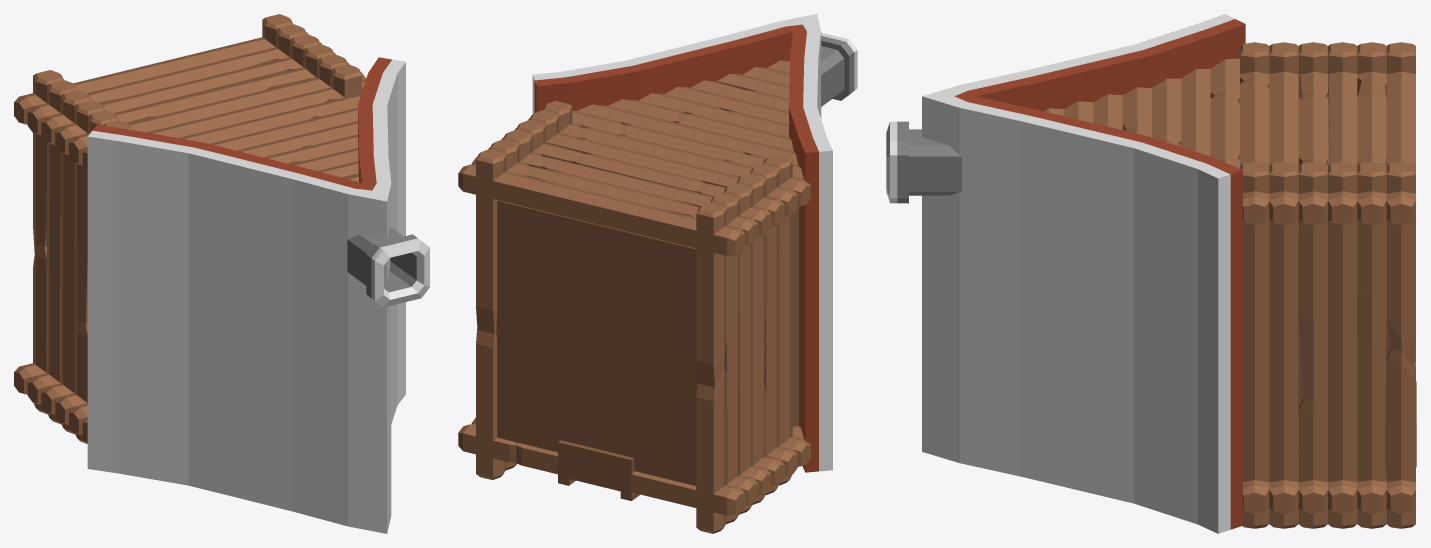
The model's file is Cabin.fbx.
The picture shows the model from 3 angles, left to right: view 1: azimuth 30°, elevation 25°; view 2: azimuth 150°, elevation 25°; view 3: azimuth 270°, elevation 25°; orthographic projection. The views are drawn at different scales.
Visible parts, largest first — view 1: Cabin; view 2: Cabin; view 3: Cabin.
Boxes of the visible parts, x1=… form: Cabin: x1=14, y1=14, x2=429, y2=533; Cabin: x1=458, y1=14, x2=857, y2=533; Cabin: x1=886, y1=14, x2=1416, y2=533.
Size of the model in its own units: 1112 by 1158 by 1514.
